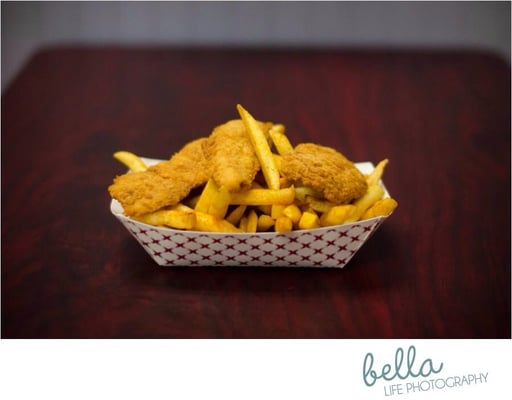pasta: (104, 105, 398, 234)
